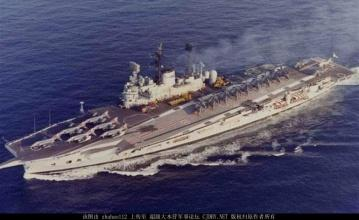warship: (1, 42, 359, 176)
